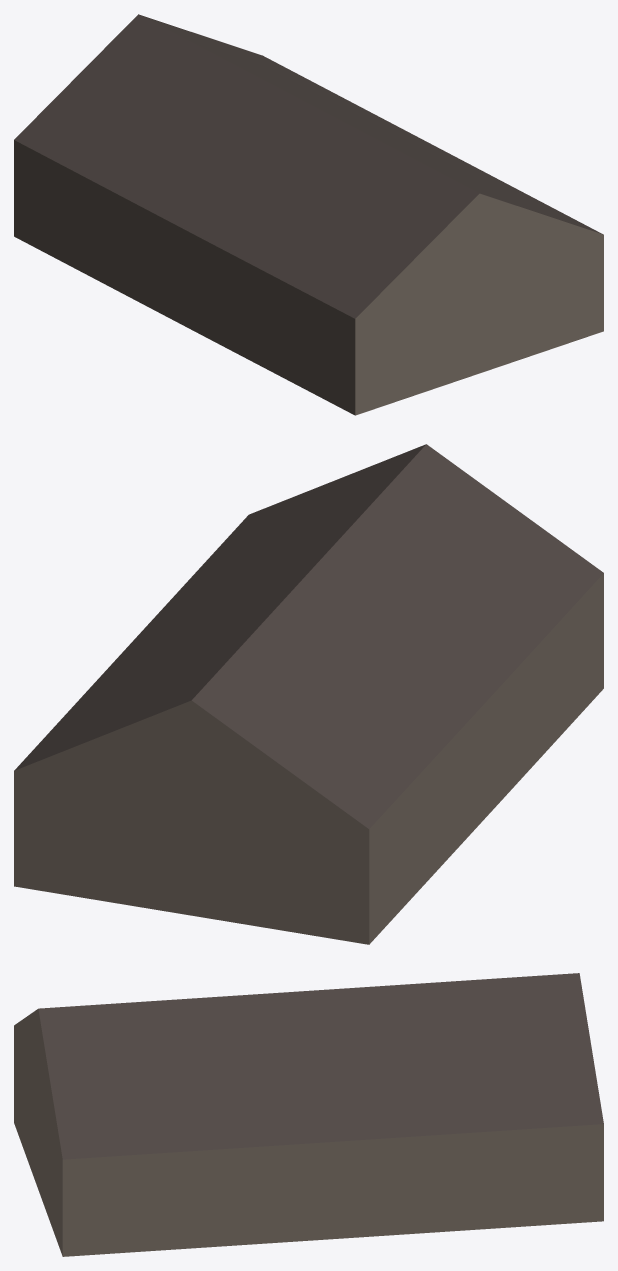
3 renders of one model, top to bottom at view 1: azimuth 30°, elevation 25°; view 2: azimuth 150°, elevation 25°; view 3: azimuth 270°, elevation 25°, orthographic. The views are drawn at different scales.
Visible parts, largest first — view 1: HP-w858807472; view 2: HP-w858807472; view 3: HP-w858807472.
Boxes of the visible parts, x1,y1,x2,y2 form: HP-w858807472: (14, 14, 603, 415); HP-w858807472: (14, 444, 603, 944); HP-w858807472: (14, 973, 603, 1256).
Bounding box in the file's own units: 11.22 × 5.59 × 16.5.
